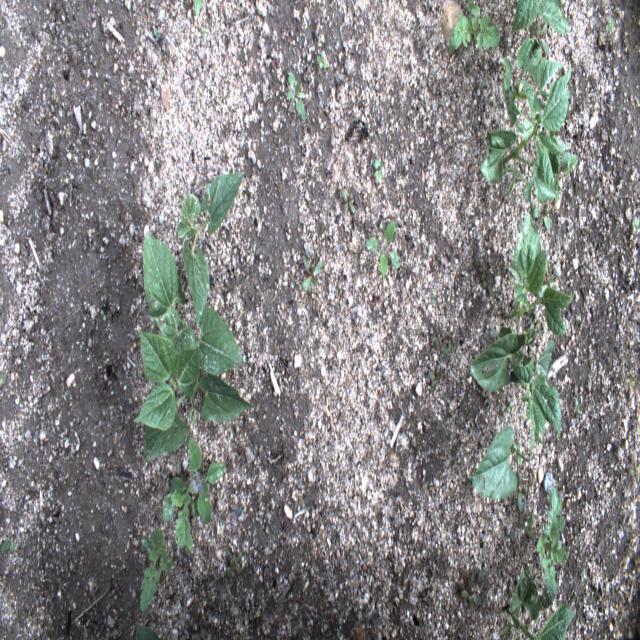crop: (132, 218, 257, 461), (476, 63, 578, 204), (470, 329, 562, 448), (177, 170, 247, 326), (500, 206, 573, 353), (502, 28, 562, 128), (504, 568, 578, 640), (469, 426, 522, 502), (513, 0, 571, 39)
weed: (161, 430, 226, 554), (536, 482, 569, 611), (137, 527, 174, 614), (448, 3, 504, 53), (364, 219, 400, 278), (282, 70, 307, 122), (296, 250, 322, 292), (184, 599, 207, 637), (459, 576, 482, 613), (515, 472, 535, 514), (433, 334, 458, 362), (192, 0, 206, 44), (336, 185, 354, 216), (314, 36, 330, 68), (481, 268, 495, 304), (225, 551, 244, 577), (530, 207, 551, 230), (427, 367, 446, 390), (1, 537, 18, 561), (523, 505, 534, 539), (132, 623, 158, 637), (371, 155, 383, 182), (504, 531, 521, 550), (607, 185, 620, 209), (603, 15, 615, 40), (498, 618, 513, 637), (0, 370, 11, 393), (502, 396, 514, 415), (154, 22, 164, 44), (630, 211, 638, 236), (574, 399, 582, 420), (428, 290, 438, 306)
